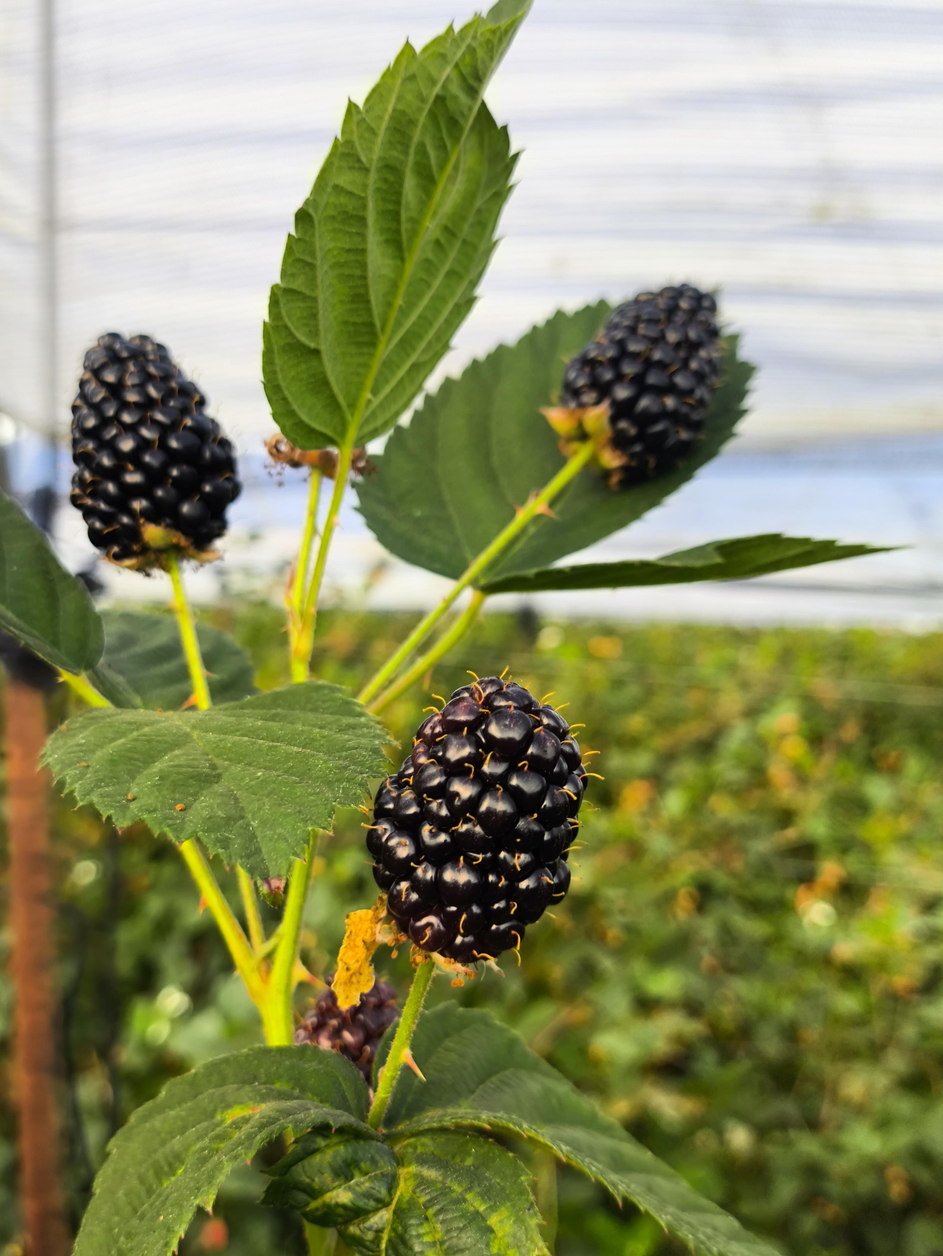maduro: (375, 675, 580, 970), (71, 333, 241, 572), (560, 284, 721, 487)
